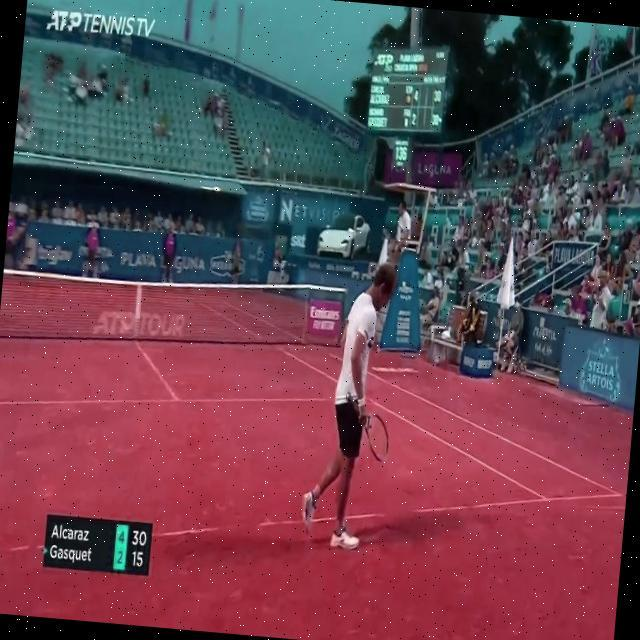court: (0, 278, 638, 612)
player: (298, 256, 405, 554)
